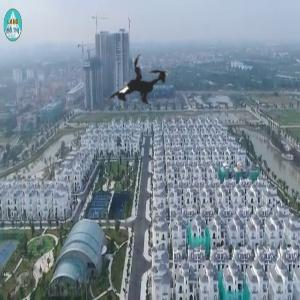drone: (83, 30, 192, 139)
